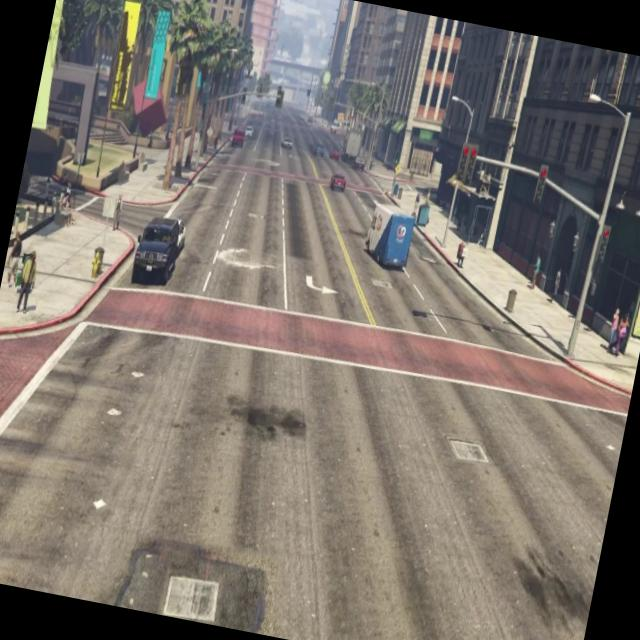Red-Signal: (450, 136, 482, 195), (530, 160, 554, 208), (594, 221, 615, 269)
